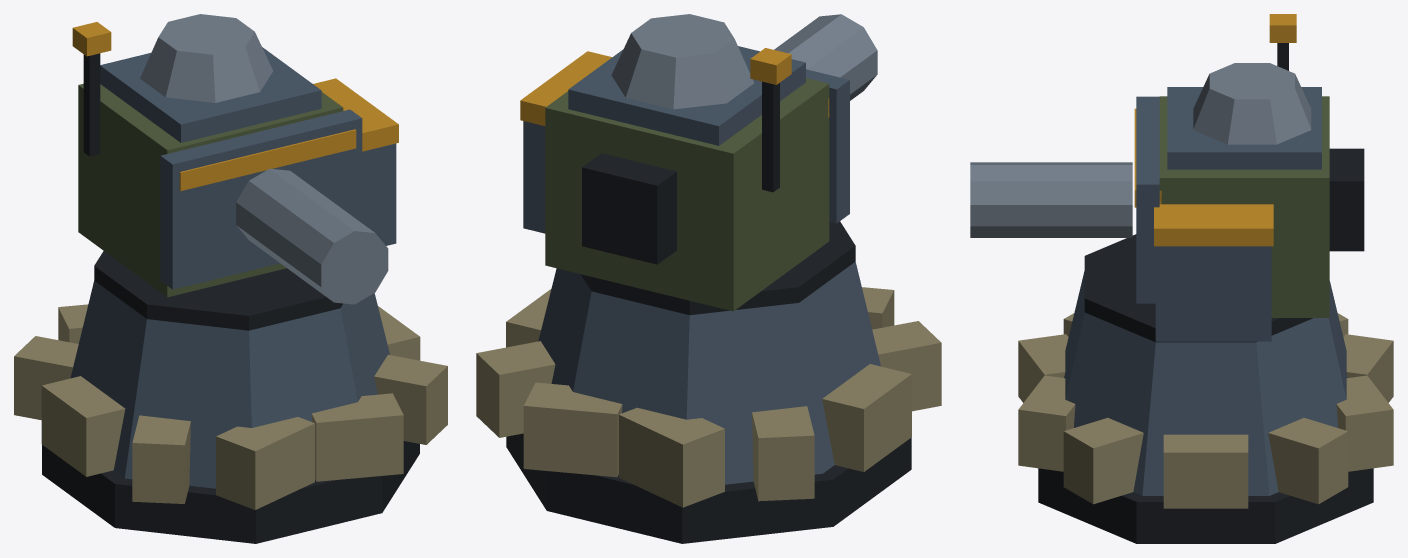
File: tower_machinegun.glb
3 renders of one model, left to right at view 1: azimuth 30°, elevation 25°; view 2: azimuth 150°, elevation 25°; view 3: azimuth 270°, elevation 25°, orthographic. The views are drawn at different scales.
Parts seen in each view (by area): view 1: base, head; view 2: base, head; view 3: base, head.
Boxes of the visible parts, x1,y1,x2,y2 form: base: (14, 251, 447, 543); head: (72, 14, 398, 304); base: (476, 221, 941, 543); head: (520, 14, 877, 311); base: (1018, 234, 1393, 543); head: (970, 14, 1364, 341).
Bounding box in the file's own units: 0.95 × 1.16 × 1.1.
